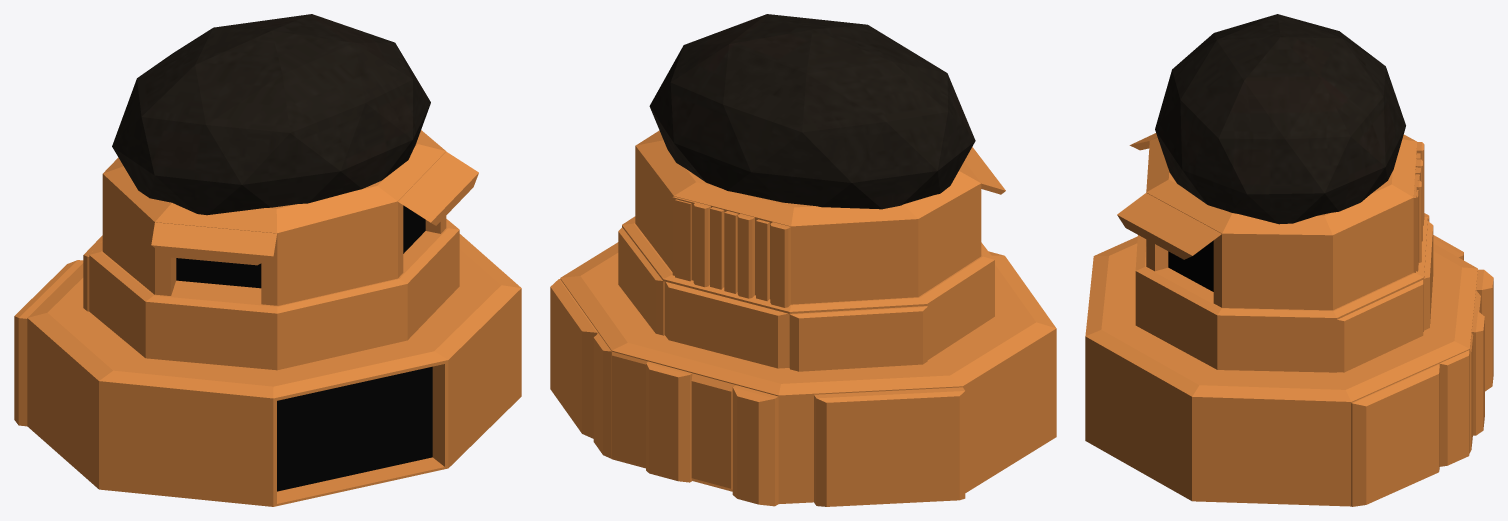
File: temple2.fbx
3 renders of one model, left to right at view 1: azimuth 30°, elevation 25°; view 2: azimuth 150°, elevation 25°; view 3: azimuth 270°, elevation 25°, orthographic. The views are drawn at different scales.
Parts seen in each view (by area): view 1: Icosphere; view 2: Icosphere; view 3: Icosphere.
Boxes of the visible parts, <box> form: Icosphere: <box>14,14,521,506</box>; Icosphere: <box>550,14,1056,506</box>; Icosphere: <box>1085,14,1493,506</box>.
Size of the model in its own units: 1206 by 1035 by 1040.
